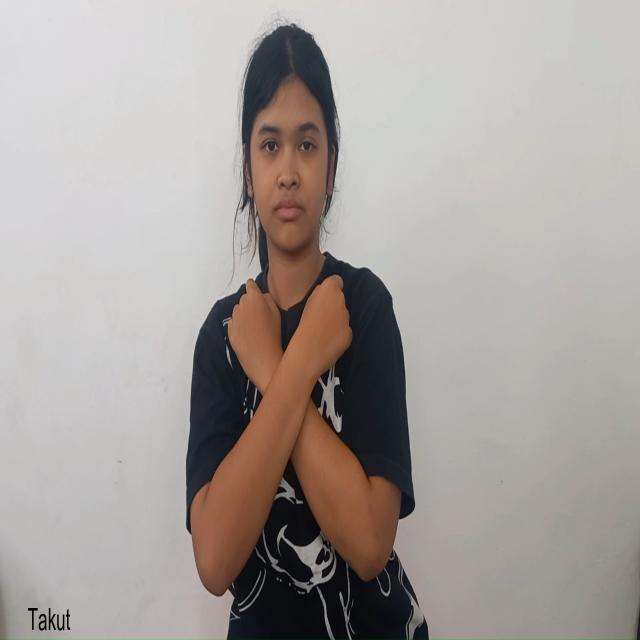Takut -BISINDO-: (204, 272, 374, 598)
